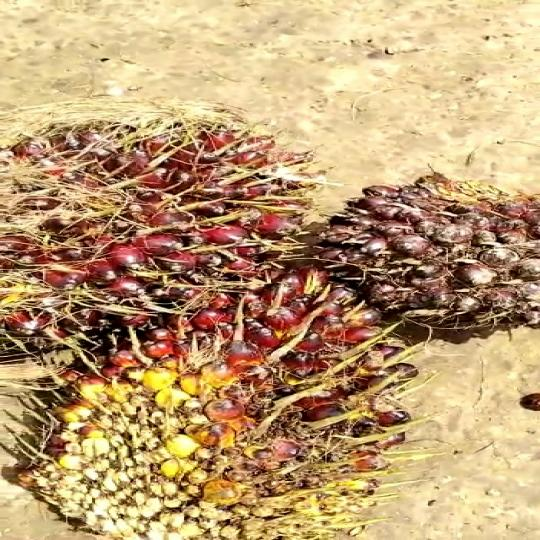kurang masak: (16, 282, 432, 540), (0, 101, 316, 374), (308, 159, 540, 346)
